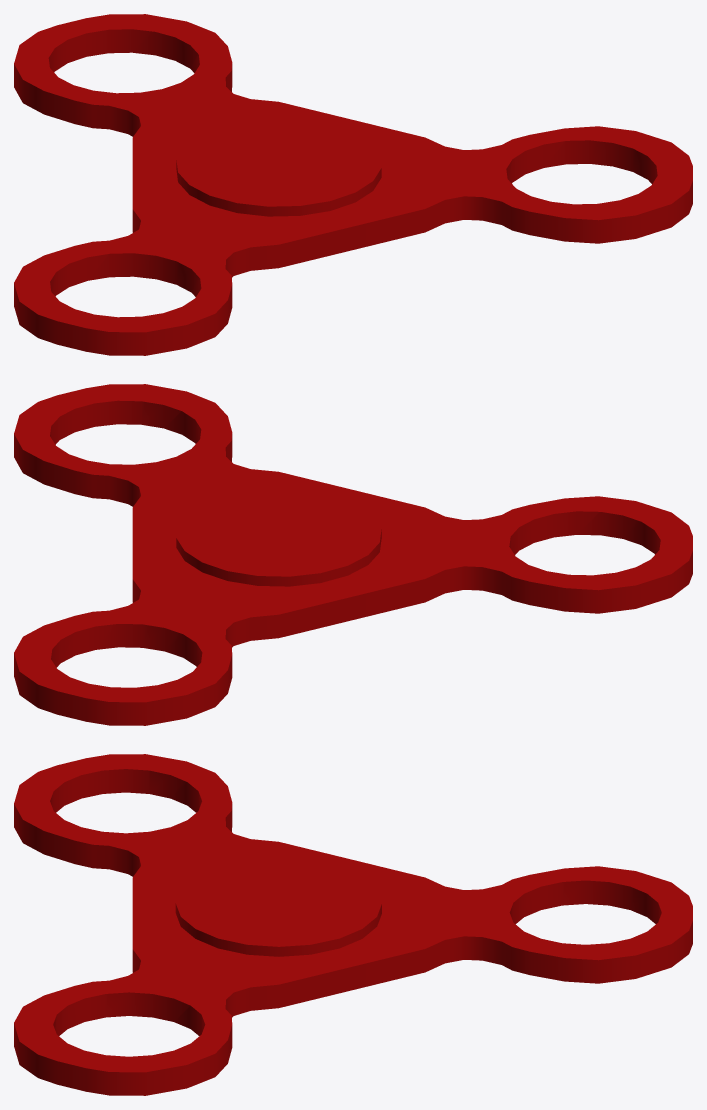
Rendered from Fidget Spinner.fbx.
3 renders of one model, top to bottom at view 1: azimuth 30°, elevation 25°; view 2: azimuth 150°, elevation 25°; view 3: azimuth 270°, elevation 25°, orthographic.
Visible parts, largest first — view 1: Fidget_Spinner; view 2: Fidget_Spinner; view 3: Fidget_Spinner.
Boxes of the visible parts, x1=… form: Fidget_Spinner: x1=14, y1=14, x2=692, y2=355; Fidget_Spinner: x1=14, y1=384, x2=692, y2=725; Fidget_Spinner: x1=14, y1=754, x2=692, y2=1095.
Size of the model in its own units: 4.45 by 0.283 by 4.02.
